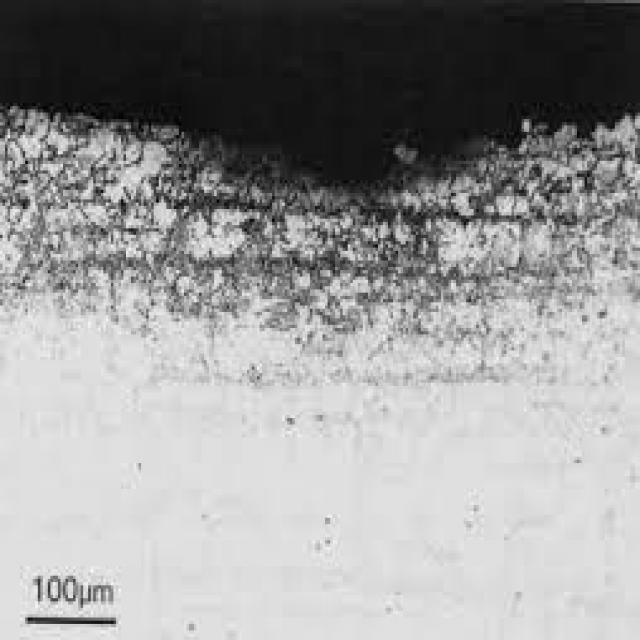crack: (179, 93, 495, 365)
